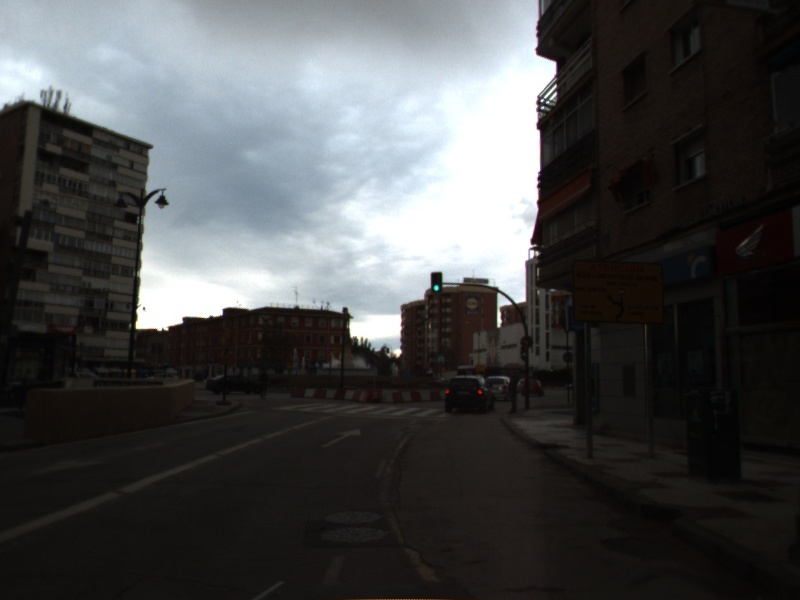STRAIGHT: (318, 426, 363, 450)
